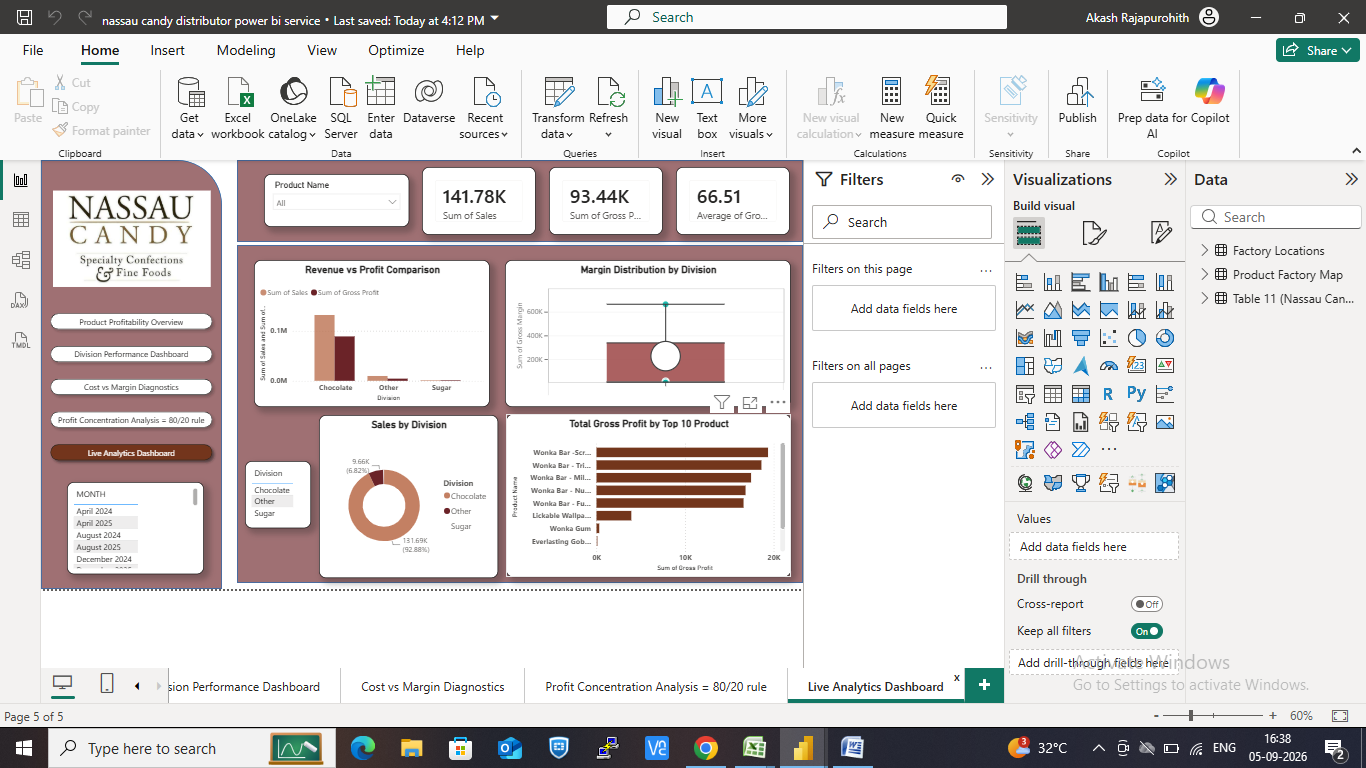

The page's visual inventory and layout, read from the dashboard file:
{"tool":"powerbi","page":{"name":"Live Analytics Dashboard","canvas":[1280,720],"ordinal":4},"visuals":[{"type":"group","id":"g1","title":"Group 1","box":[0,0,304,720.6],"z":0},{"type":"shape","box":[329.2,0,950.8,137.7],"z":1000},{"type":"slicer","fields":{"Values":["Table 11 (Nassau Candy Distributor 1).Product Name"]},"box":[374.6,23.5,243.6,89],"z":2000},{"type":"cardVisual","fields":{"Data":["Sum(Table 11 (Nassau Candy Distributor 1).Sales)"]},"box":[640,11.8,191.5,114.2],"z":3000},{"type":"shape","box":[329.2,142.8,950.8,567.8],"z":4000},{"type":"tableEx","fields":{"Values":["Table 11 (Nassau Candy Distributor 1).Division"]},"box":[342.7,505.6,110.9,112.5],"z":5000},{"type":"cardVisual","fields":{"Data":["Sum(Table 11 (Nassau Candy Distributor 1).Gross Profit)"]},"box":[853.3,11.8,191.5,114.2],"z":6000},{"type":"group","id":"g2","title":"Group 2","box":[0,0,304,720.6],"z":6502,"group":"g1"},{"type":"shape","box":[0,0,304,720.6],"z":7000,"group":"g2"},{"type":"cardVisual","fields":{"Data":["Avg(Table 11 (Nassau Candy Distributor 1).Gross Margin)"]},"box":[1066.7,11.8,191.5,114.2],"z":7000},{"type":"pageNavigator","box":[6.7,248.6,290.6,265.4],"z":7500,"group":"g2"},{"type":"tableEx","fields":{"Values":["Table 11 (Nassau Candy Distributor 1).MONTH"]},"box":[43.7,540.9,230.1,154.5],"z":8000},{"type":"clusteredColumnChart","title":"Revenue vs Profit Comparison","fields":{"Category":["Table 11 (Nassau Candy Distributor 1).Division"],"Y":["Sum(Table 11 (Nassau Candy Distributor 1).Sales)","Sum(Table 11 (Nassau Candy Distributor 1).Gross Profit)"]},"box":[357.8,168,396.4,246.9],"z":9000},{"type":"BoxandWhiskerByMAQ1823AD39DT234AB532063E128AX","title":"Margin Distribution by Division","fields":{"category":["Table 11 (Nassau Candy Distributor 1).Division"],"measure":["Sum(Table 11 (Nassau Candy Distributor 1).Gross Margin)"]},"box":[779.4,168,480.4,246.9],"z":10000},{"type":"donutChart","title":"Sales by Division","fields":{"Category":["Table 11 (Nassau Candy Distributor 1).Division"],"Y":["Sum(Table 11 (Nassau Candy Distributor 1).Sales)"]},"box":[467,428.3,300.7,273.8],"z":11000},{"type":"barChart","title":"Total Gross Profit by  Top 10 Product ","fields":{"Category":["Table 11 (Nassau Candy Distributor 1).Product Name"],"Y":["Sum(Table 11 (Nassau Candy Distributor 1).Gross Profit)"]},"box":[781.1,426.7,478.7,273.8],"z":12000},{"type":"image","box":[20.2,40.3,265.4,183.1],"z":13000}]}

Visuals, with their boxes on the page's 1280x720 design canvas (x1, y1, x2, y2). These are canvas units, not pixel positions in the 1366x768 screenshot, which may show the page scaled, cropped or inside an application window:
"Group 1" group: [x1=0, y1=0, x2=304, y2=721]
shape: [x1=329, y1=0, x2=1280, y2=138]
slicer - Table 11 (Nassau Candy Distributor 1).Product Name: [x1=375, y1=24, x2=618, y2=112]
cardVisual - Sum(Table 11 (Nassau Candy Distributor 1).Sales): [x1=640, y1=12, x2=832, y2=126]
shape: [x1=329, y1=143, x2=1280, y2=711]
tableEx - Table 11 (Nassau Candy Distributor 1).Division: [x1=343, y1=506, x2=454, y2=618]
cardVisual - Sum(Table 11 (Nassau Candy Distributor 1).Gross Profit): [x1=853, y1=12, x2=1045, y2=126]
"Group 2" group: [x1=0, y1=0, x2=304, y2=721]
shape: [x1=0, y1=0, x2=304, y2=721]
cardVisual - Avg(Table 11 (Nassau Candy Distributor 1).Gross Margin): [x1=1067, y1=12, x2=1258, y2=126]
pageNavigator: [x1=7, y1=249, x2=297, y2=514]
tableEx - Table 11 (Nassau Candy Distributor 1).MONTH: [x1=44, y1=541, x2=274, y2=695]
"Revenue vs Profit Comparison" clusteredColumnChart: [x1=358, y1=168, x2=754, y2=415]
"Margin Distribution by Division" BoxandWhiskerByMAQ1823AD39DT234AB532063E128AX: [x1=779, y1=168, x2=1260, y2=415]
"Sales by Division" donutChart: [x1=467, y1=428, x2=768, y2=702]
"Total Gross Profit by  Top 10 Product " barChart: [x1=781, y1=427, x2=1260, y2=700]
image: [x1=20, y1=40, x2=286, y2=223]
